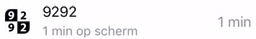name: (40, 2, 82, 21)
time: (40, 24, 75, 38)
